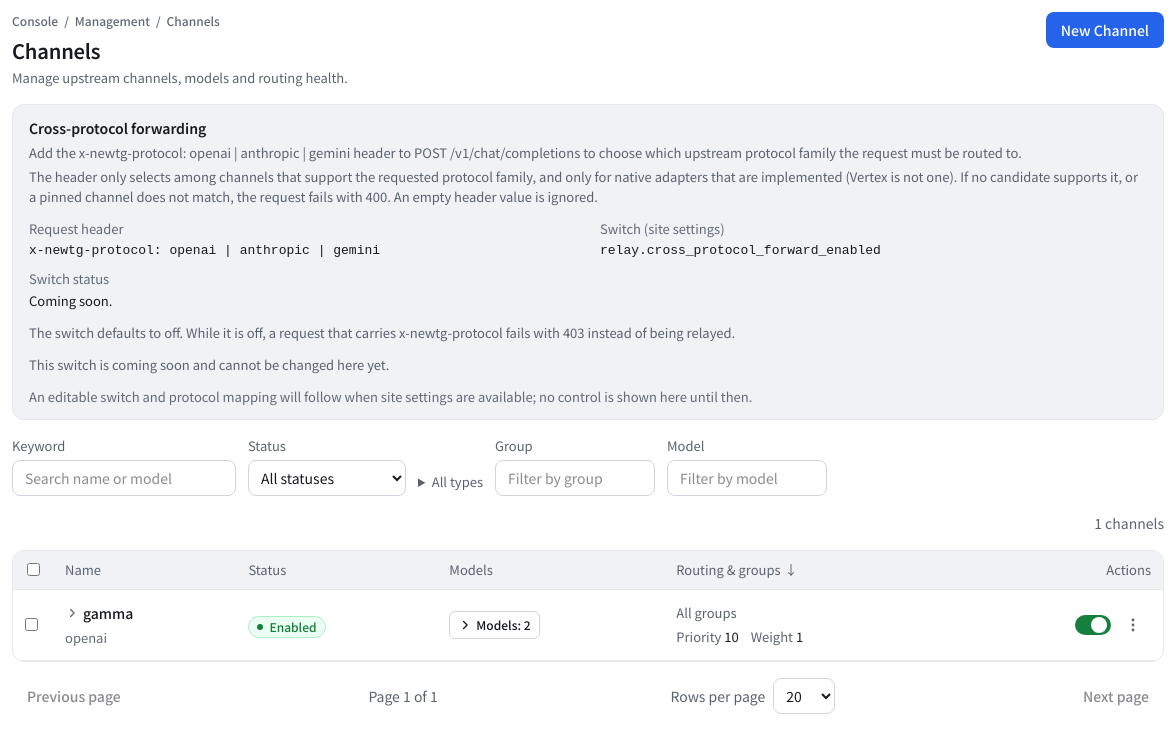
Test case: ChannelListPage › sends expected_version on status toggles and reports a 409 conflict
expect the button "gamma" is shown: met, box [83,602,133,624]
Click the switch named "Disable channel gamma" at (1093, 625), box [1075,615,1111,635]
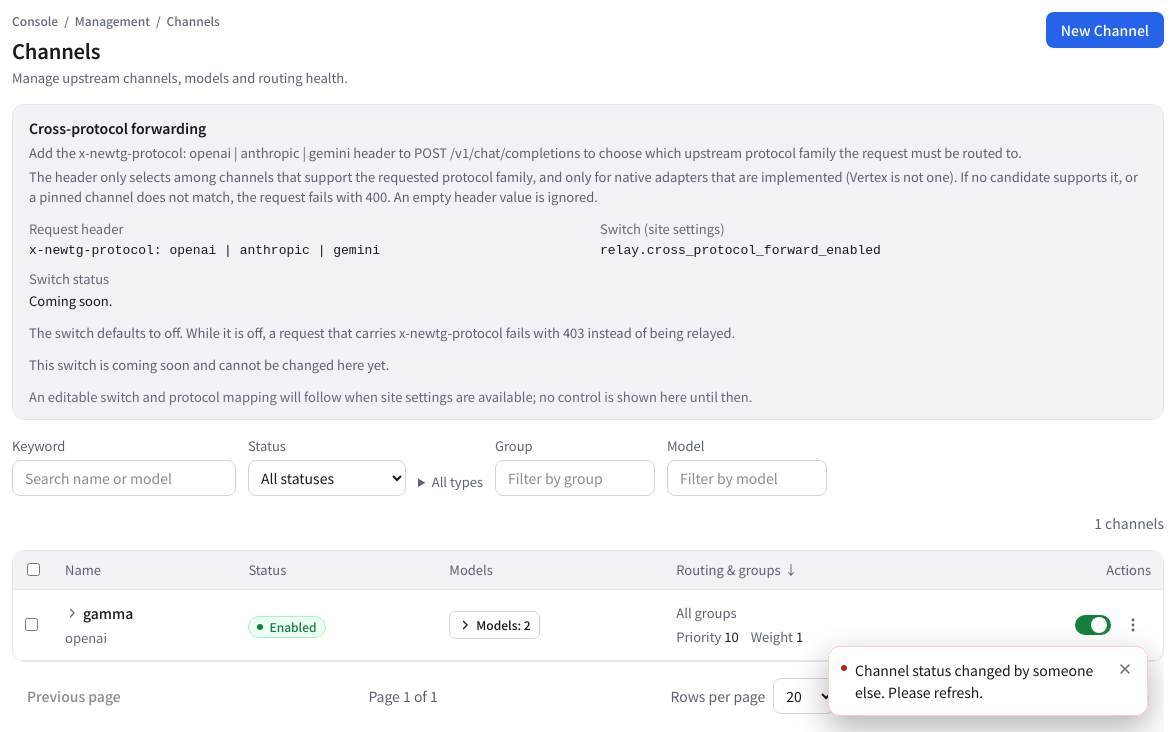
expect the text "Channel status changed by someone else. Please refresh." is shown: met, box [855,659,1107,703]
